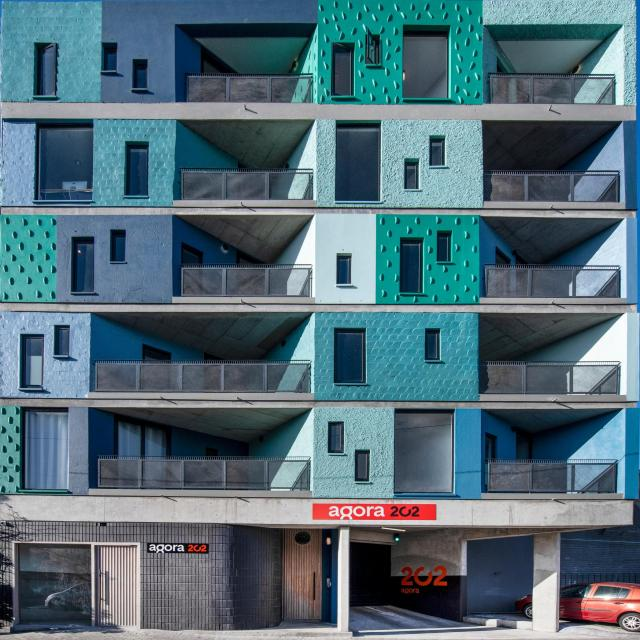Railing: (96, 360, 314, 393), (102, 456, 312, 489), (182, 164, 320, 202), (488, 458, 622, 497), (487, 168, 620, 203), (482, 360, 622, 393), (180, 265, 314, 298), (488, 265, 622, 297), (186, 73, 316, 102), (493, 75, 618, 102)
door: (98, 542, 140, 632), (286, 527, 326, 618)
wall: (0, 0, 640, 632)
windows: (20, 543, 94, 626), (398, 411, 454, 492), (41, 126, 97, 200), (27, 411, 71, 488), (339, 126, 382, 201), (405, 34, 451, 98), (121, 417, 172, 457), (334, 329, 368, 384), (130, 145, 152, 196), (403, 242, 424, 293), (78, 241, 98, 291), (27, 336, 46, 386), (337, 48, 355, 96), (41, 44, 58, 94), (332, 423, 347, 452), (185, 245, 203, 269), (115, 231, 129, 260), (359, 453, 374, 480), (428, 332, 442, 360), (107, 46, 121, 70), (441, 235, 454, 260), (340, 257, 352, 283), (434, 140, 446, 165), (140, 63, 152, 86), (408, 163, 419, 188), (62, 328, 71, 354)
